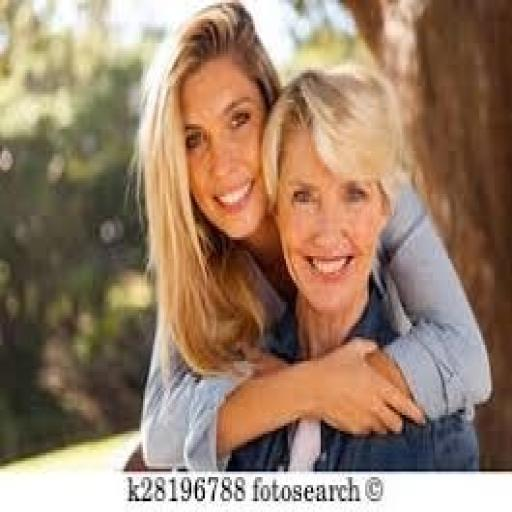hugging: (131, 0, 493, 472)
